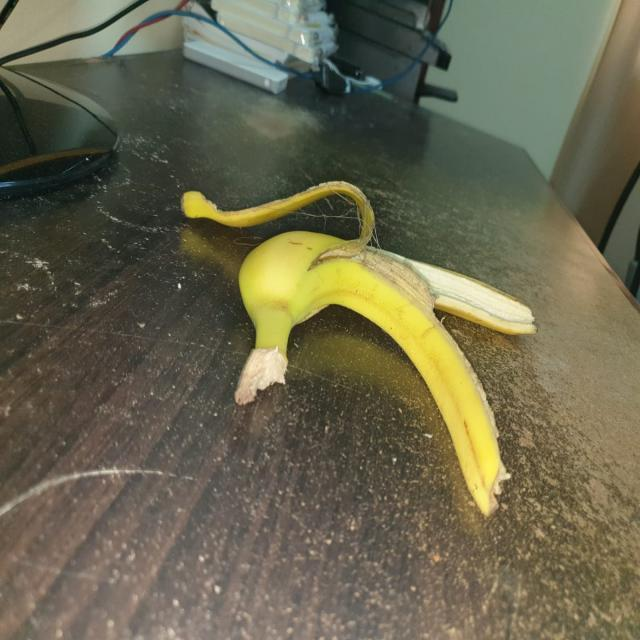banana-peel: (180, 180, 538, 519)
